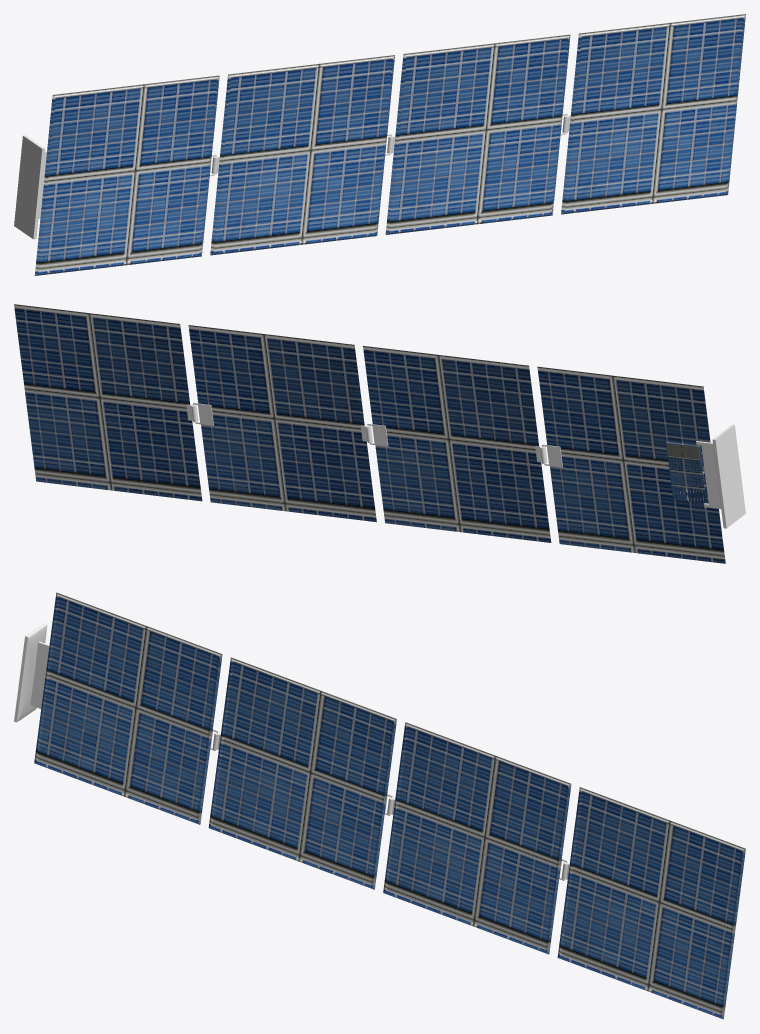
The model's file is solar2.obj.
3 renders of one model, top to bottom at view 1: azimuth 30°, elevation 25°; view 2: azimuth 150°, elevation 25°; view 3: azimuth 330°, elevation 25°, orthographic.
Visible parts, largest first — view 1: Cube.004; view 2: Cube.004; view 3: Cube.004.
Boxes of the visible parts, <box> form: Cube.004: <box>14,14,745,275</box>; Cube.004: <box>14,304,745,563</box>; Cube.004: <box>14,592,745,1019</box>.
Size of the model in its own units: 81.19 by 28.08 by 3.99.
Materials: 5 (5 with a texture image).
